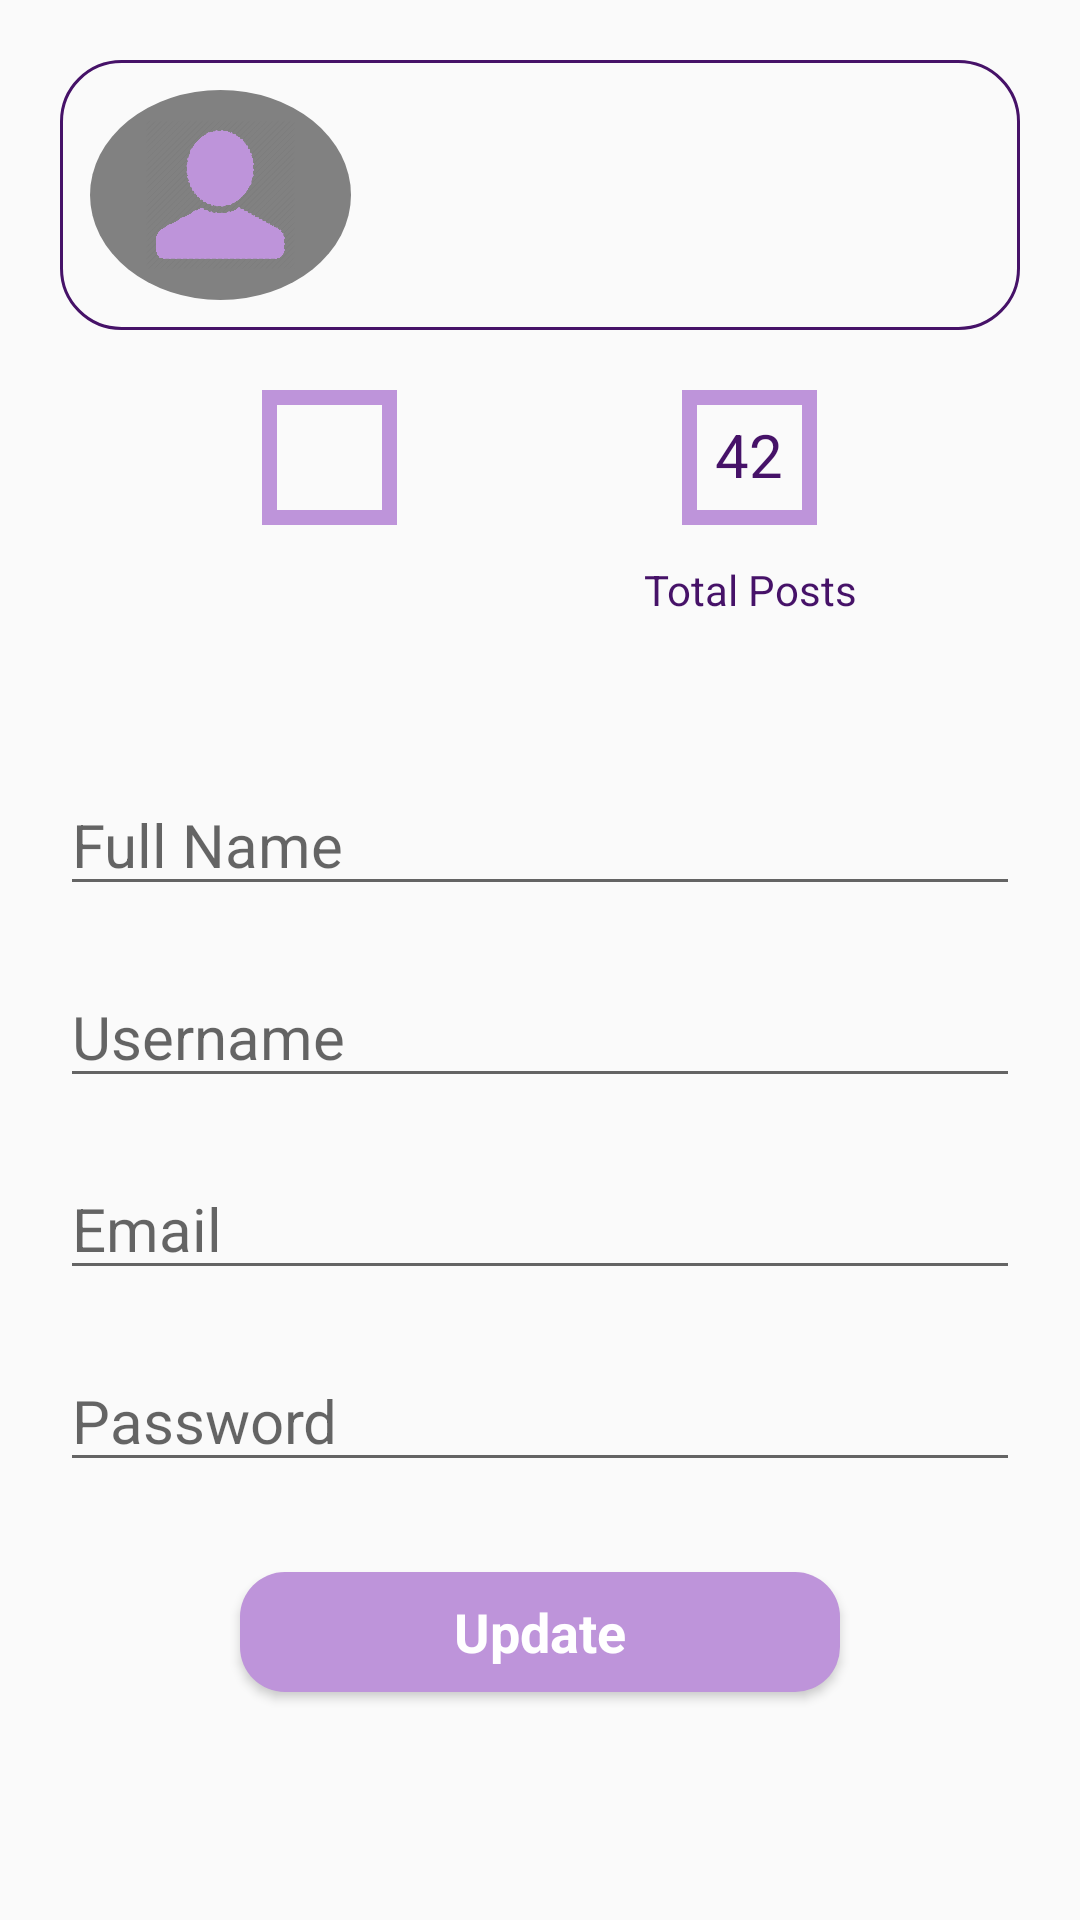

Named icons in this screenshot (1080px×1920px) and their centers, [x,y]:
profile: [220,195]
